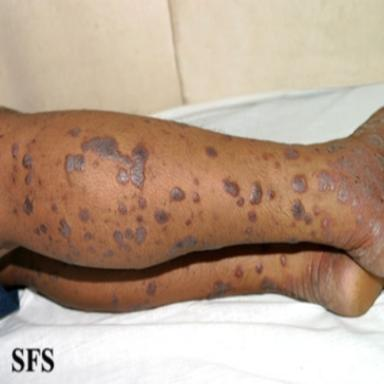lichen: (64, 137, 149, 190), (327, 145, 384, 212), (58, 217, 79, 255), (337, 176, 359, 207), (169, 236, 197, 258), (207, 280, 232, 299), (293, 201, 312, 224), (114, 231, 131, 251), (319, 171, 335, 192), (323, 216, 334, 246), (222, 178, 239, 197), (129, 298, 151, 312), (249, 182, 262, 205), (261, 277, 277, 293), (292, 176, 307, 193), (169, 187, 185, 202), (155, 210, 171, 224), (23, 195, 33, 215), (135, 227, 146, 244), (146, 279, 157, 296), (368, 135, 384, 146), (285, 148, 299, 160), (327, 144, 344, 153), (205, 146, 217, 158), (35, 224, 47, 236), (23, 154, 32, 169), (79, 209, 89, 222), (68, 127, 81, 137), (11, 143, 19, 158), (247, 211, 257, 222), (267, 189, 276, 201), (83, 232, 94, 241), (138, 198, 147, 209), (48, 270, 59, 279), (245, 225, 253, 237), (119, 203, 127, 215), (356, 214, 364, 226), (235, 267, 243, 278), (263, 153, 275, 160), (125, 229, 133, 239), (237, 197, 245, 207), (51, 203, 59, 213), (113, 295, 118, 311), (25, 172, 31, 185), (313, 205, 320, 216), (287, 238, 299, 244), (103, 250, 113, 257), (192, 193, 199, 203), (256, 264, 263, 274), (281, 255, 287, 266), (88, 246, 96, 254), (92, 160, 100, 168), (37, 268, 43, 278), (136, 215, 143, 223), (224, 135, 233, 141), (12, 206, 18, 215), (290, 221, 297, 228), (193, 178, 199, 186), (185, 219, 191, 226), (275, 162, 281, 169)
